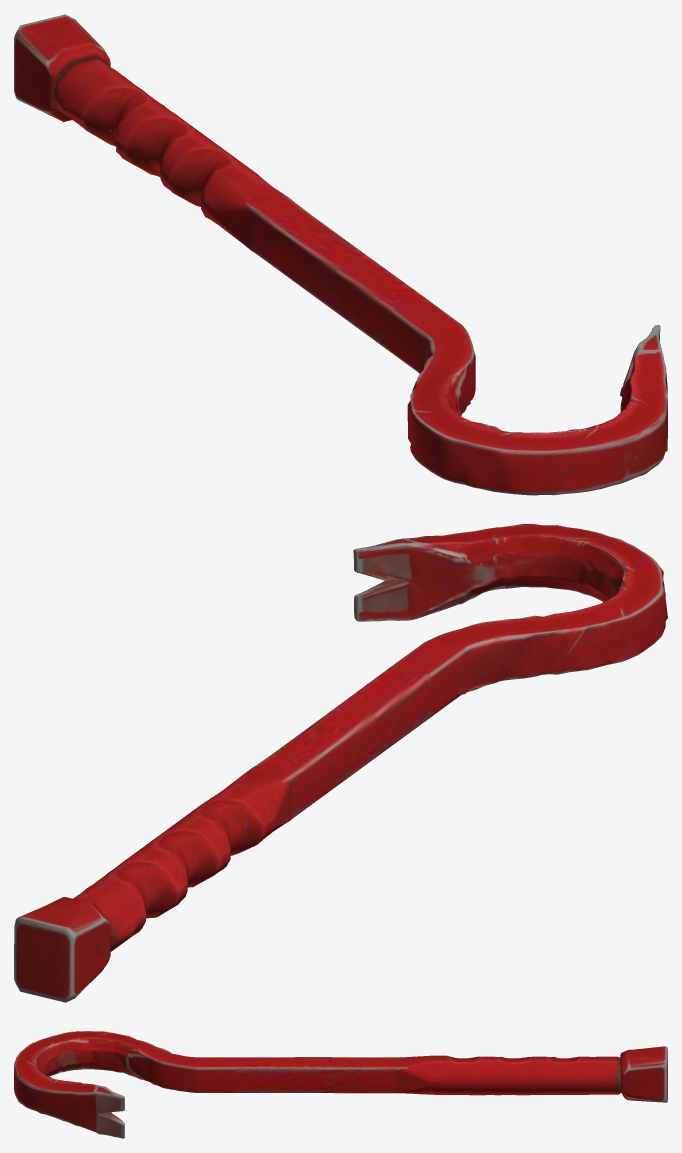
File: crowbar.glb
The picture shows the model from 3 angles, top to bottom: view 1: azimuth 30°, elevation 25°; view 2: azimuth 150°, elevation 25°; view 3: azimuth 270°, elevation 25°; orthographic projection. The views are drawn at different scales.
Visible parts, largest first — view 1: w_crowbar; view 2: w_crowbar; view 3: w_crowbar.
Part boxes in pixels (bbox=[...]): w_crowbar: bbox=[14, 14, 667, 495]; w_crowbar: bbox=[14, 524, 667, 1002]; w_crowbar: bbox=[14, 1031, 667, 1138].
Size of the model in its own units: 0.1648 by 0.0449 by 0.6.
1 material, 1 textured.
